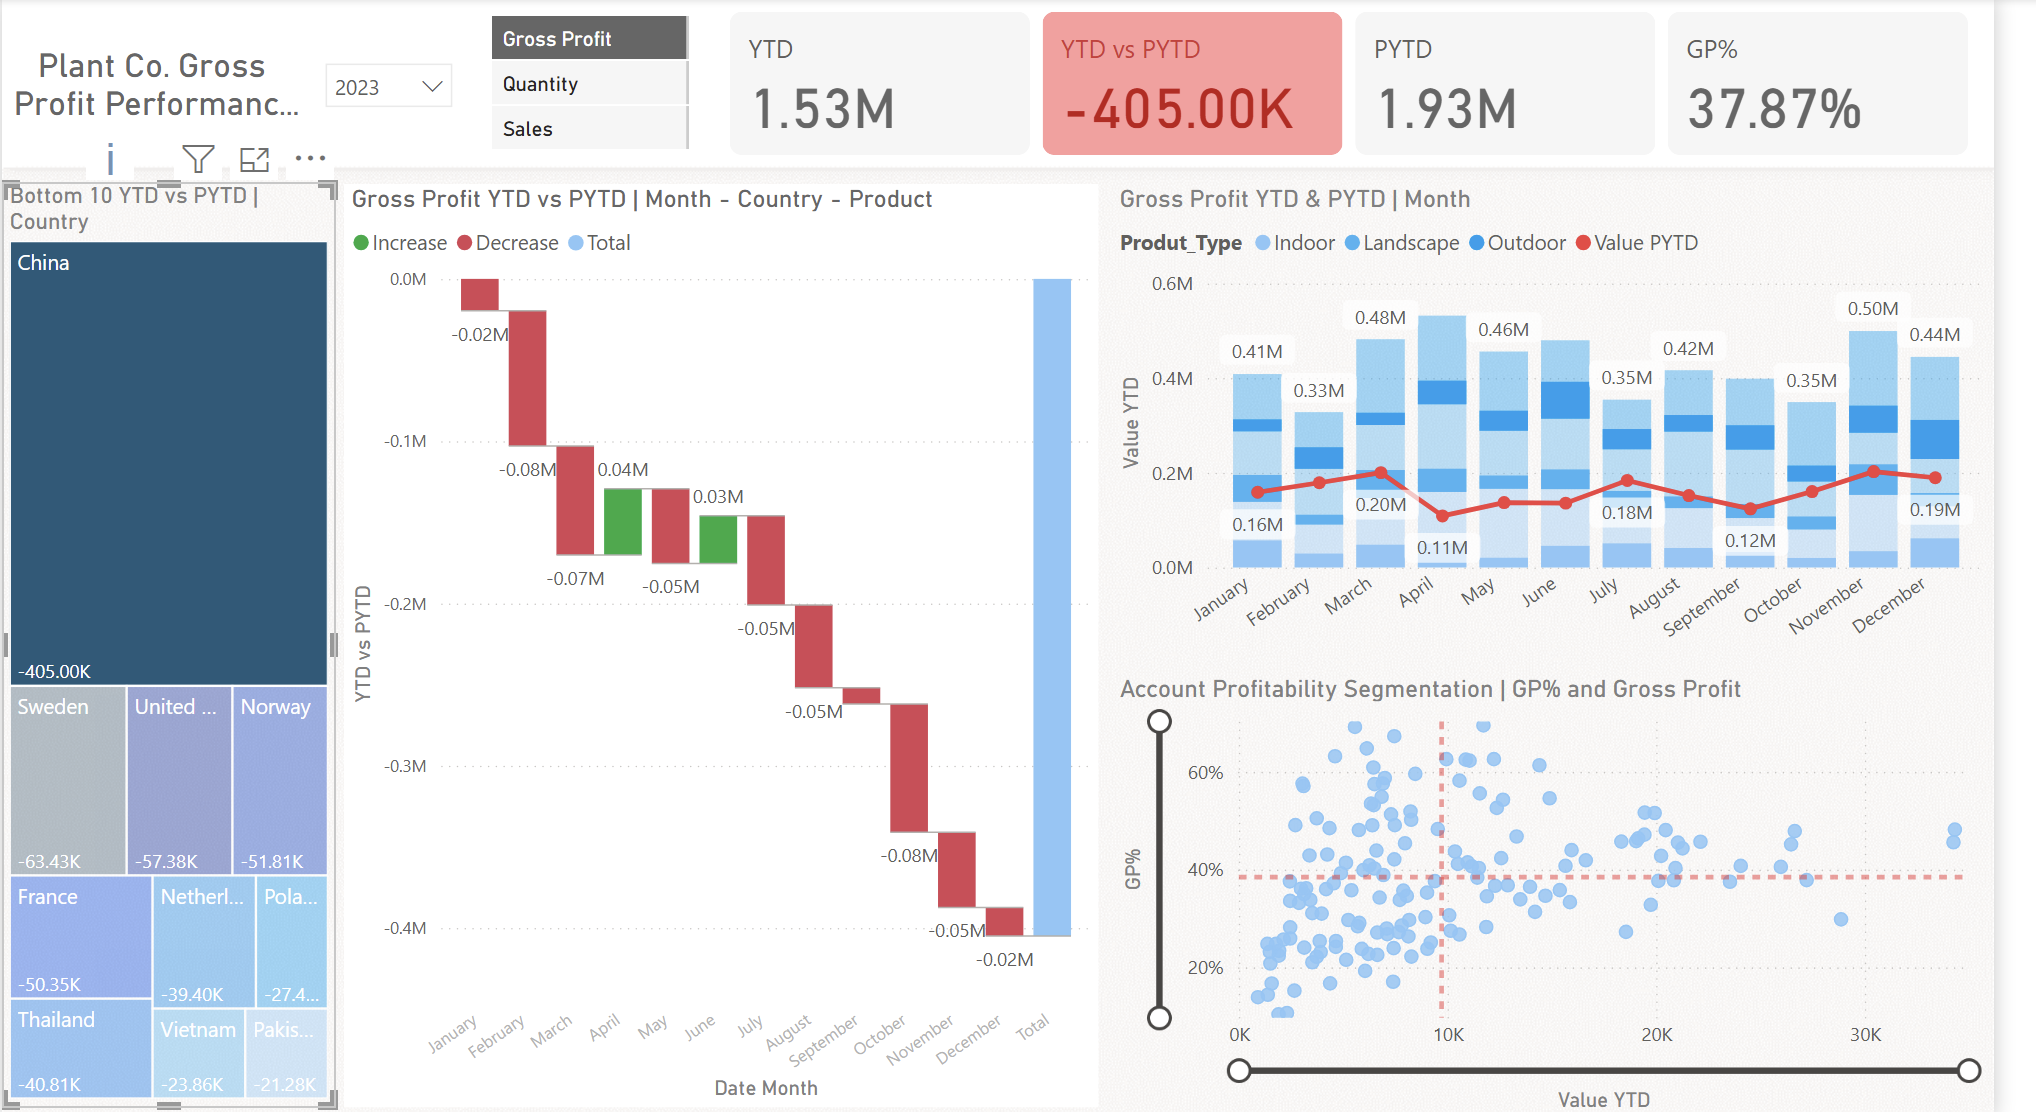

Layout of this report page (visuals, bound fields, positions):
{"tool":"powerbi","page":{"name":"Performance Report","canvas":[1280,720],"ordinal":0},"visuals":[{"type":"cardVisual","fields":{"Data":["_Measures.S_YTD","_Measures.YTD vs PYTD","_Measures.S_PYTD","_Measures.GP%"]},"box":[463,4.2,806.2,102.1],"z":0},{"type":"advancedSlicerVisual","fields":{"Values":["Slc_Values.Values"]},"box":[309.8,5.9,137.3,98],"z":1000},{"type":"slicer","fields":{"Values":["Dim_Date.Date.Variation.Date Hierarchy.Year"]},"box":[198.4,32.7,101.3,50.2],"z":2000},{"type":"treemap","title":"Bottom 10 YTD vs PYTD | Country","fields":{"Values":["_Measures.YTD vs PYTD"],"Group":["Dim_Account.country"]},"box":[0,118.7,214.6,594.4],"z":3000},{"type":"waterfallChart","fields":{"Y":["_Measures.YTD vs PYTD"],"Category":["Dim_Date.Date.Variation.Date Hierarchy.Month","Dim_Account.country","Dim_Product.Produt_Type","Dim_Product.Product_Name"]},"box":[220.3,119.6,485.2,593.5],"z":4000},{"type":"lineStackedColumnComboChart","fields":{"Y":["_Measures.S_YTD"],"Y2":["_Measures.S_PYTD"],"Category":["Dim_Date.Date.Variation.Date Hierarchy.Quarter","Dim_Date.Date.Variation.Date Hierarchy.Month"],"Series":["Dim_Product.Produt_Type"]},"box":[714.1,119.6,565.9,314.3],"z":5000},{"type":"scatterChart","fields":{"Y":["_Measures.GP%"],"X":["_Measures.S_YTD"],"Category":["Dim_Account.Account"]},"box":[714.1,433.9,565.9,285.8],"z":6000},{"type":"card","fields":{"Values":["_Measures._Report title"]},"box":[0,20.9,198.5,68.4],"z":7000}]}

Visuals, with their boxes on the page's 1280x720 design canvas (x1, y1, x2, y2). These are canvas units, not pixel positions in the 2036x1112 screenshot, which may show the page scaled, cropped or inside an application window:
cardVisual - _Measures.S_YTD x _Measures.YTD vs PYTD: [463, 4, 1269, 106]
advancedSlicerVisual - Slc_Values.Values: [310, 6, 447, 104]
slicer - Dim_Date.Date.Variation.Date Hierarchy.Year: [198, 33, 300, 83]
"Bottom 10 YTD vs PYTD | Country" treemap: [0, 119, 215, 713]
waterfallChart - _Measures.YTD vs PYTD x Dim_Date.Date.Variation.Date Hierarchy.Month: [220, 120, 706, 713]
lineStackedColumnComboChart - _Measures.S_YTD x _Measures.S_PYTD: [714, 120, 1280, 434]
scatterChart - _Measures.GP% x _Measures.S_YTD: [714, 434, 1280, 720]
card - _Measures._Report title: [0, 21, 198, 89]
